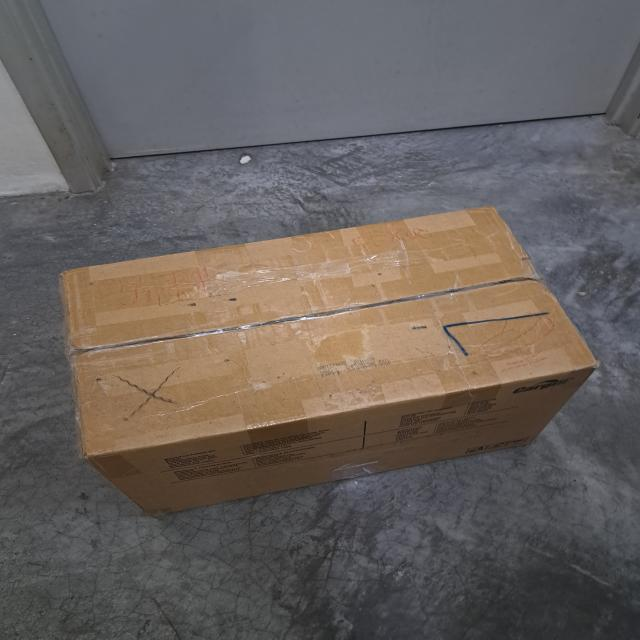cardboard: (62, 205, 598, 509)
